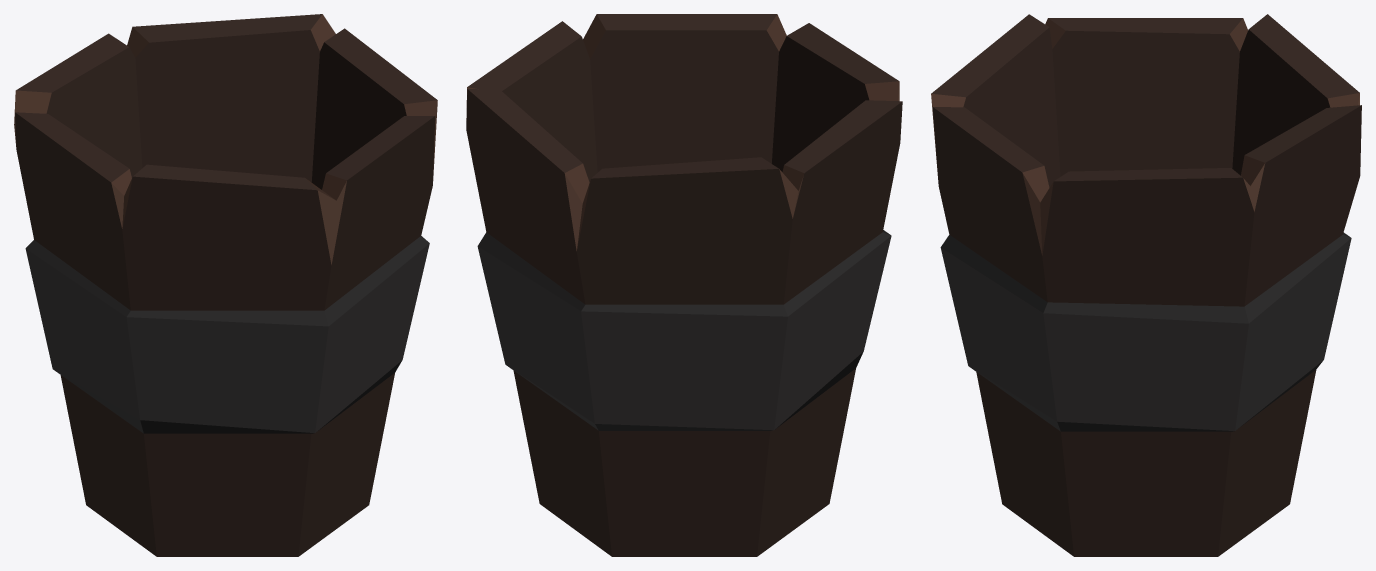
File: Cup_01.glb
The picture shows the model from 3 angles, left to right: view 1: azimuth 30°, elevation 25°; view 2: azimuth 150°, elevation 25°; view 3: azimuth 270°, elevation 25°; orthographic projection. The views are drawn at different scales.
Parts seen in each view (by area): view 1: Cup_01; view 2: Cup_01; view 3: Cup_01.
Part boxes in pixels (bbox=[...]): Cup_01: bbox=[14, 14, 437, 556]; Cup_01: bbox=[466, 14, 902, 556]; Cup_01: bbox=[931, 14, 1361, 556].
Size of what is drawn, in the model's own units: 0.2313 by 0.2757 by 0.2578.
1 material, 1 textured.
